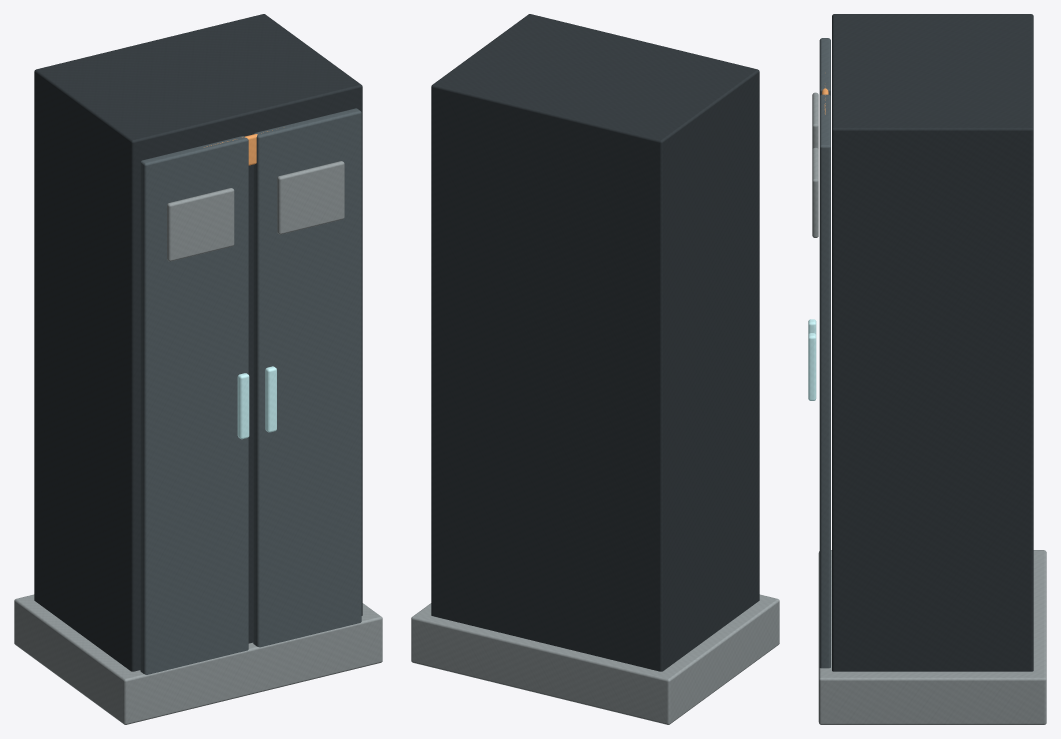
Rendered from UtilityLocker.glb.
3 renders of one model, left to right at view 1: azimuth 30°, elevation 25°; view 2: azimuth 150°, elevation 25°; view 3: azimuth 270°, elevation 25°, orthographic. The views are drawn at different scales.
Parts seen in each view (by area): view 1: UtilityLocker_Mesh; view 2: UtilityLocker_Mesh; view 3: UtilityLocker_Mesh.
Boxes of the visible parts, x1,y1,x2,y2 form: UtilityLocker_Mesh: (14,14,382,724); UtilityLocker_Mesh: (411,14,779,724); UtilityLocker_Mesh: (808,14,1046,724).
Bounding box in the file's own units: 0.94 × 2 × 0.7325.
5 materials, 5 textured.
